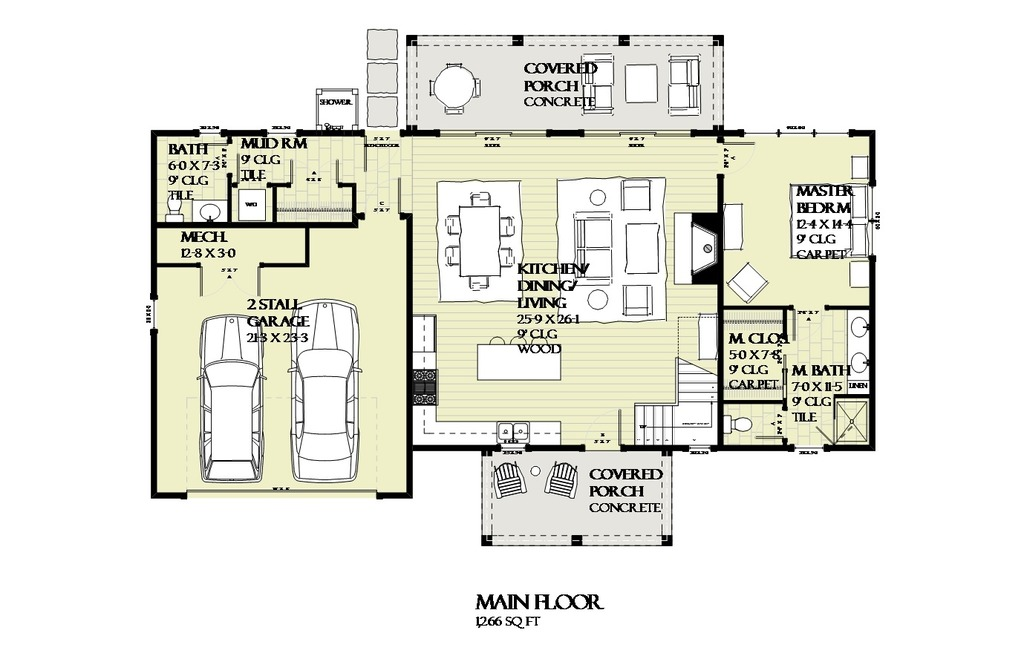dining_table: (443, 192, 519, 294), (572, 208, 614, 287)
large_sink: (716, 412, 754, 443), (159, 192, 185, 225)
large_sofa: (571, 206, 614, 287), (671, 53, 699, 115)
round_table: (432, 64, 481, 112), (731, 259, 768, 303)
small_sink: (848, 309, 872, 379), (192, 201, 228, 224)
small_sofa: (730, 262, 767, 306), (616, 179, 654, 211), (623, 283, 655, 317)
stairs: (636, 355, 718, 450)
